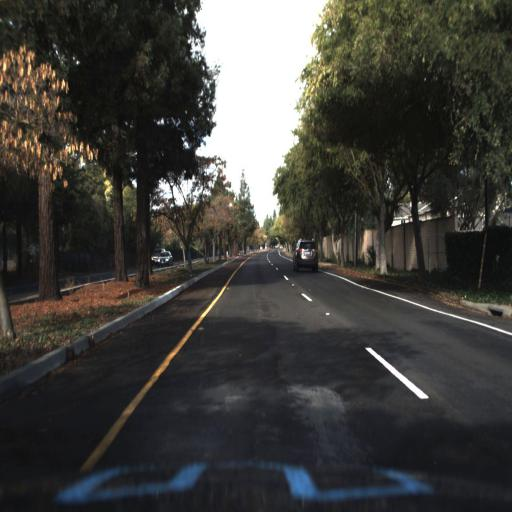car: (290, 236, 322, 273), (152, 246, 174, 266)
